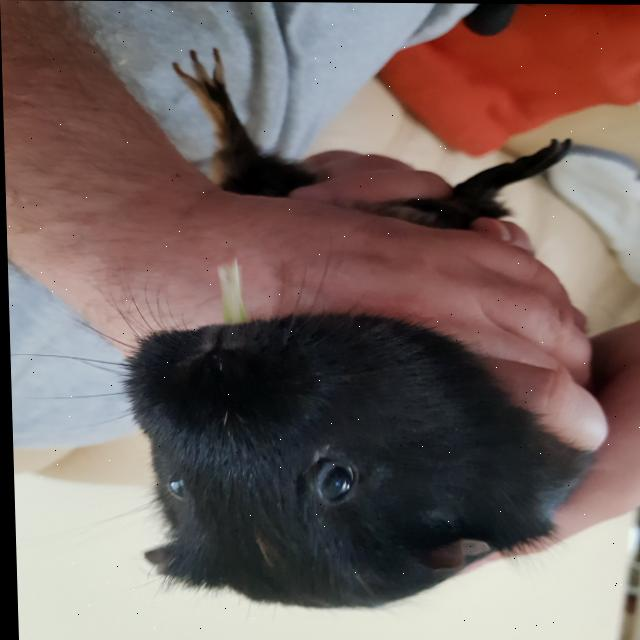guinea pig: (114, 41, 596, 617)
